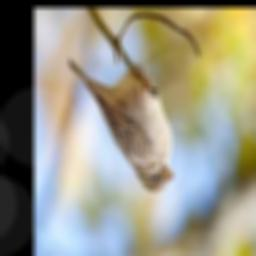Sparrow: (68, 55, 174, 194)
